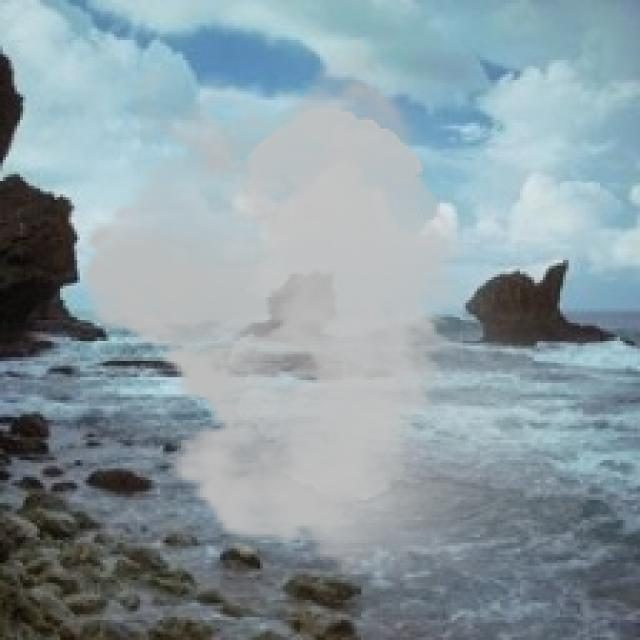smoke: (60, 34, 623, 589)
